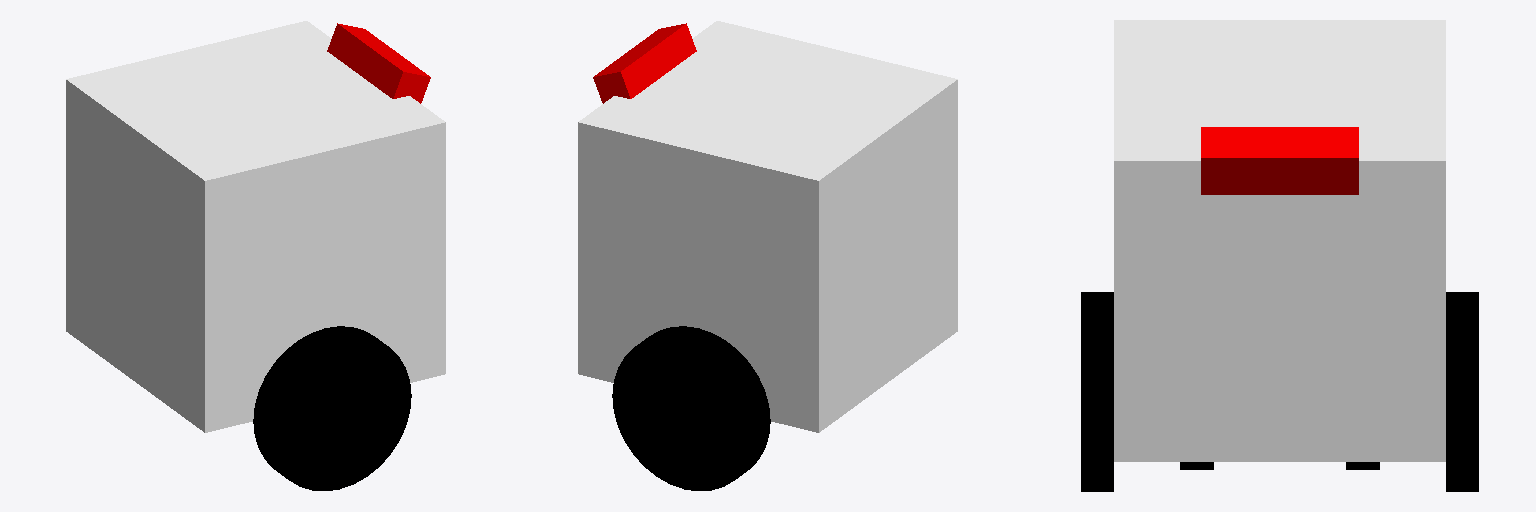
The robot description file, URDF, robot "wheel_only_test":
<?xml version="1.0" ?>
<!-- =================================================================================== -->
<!-- |    This document was autogenerated by xacro from wheel_only_test.urdf.xacro     | -->
<!-- |    EDITING THIS FILE BY HAND IS NOT RECOMMENDED                                 | -->
<!-- =================================================================================== -->
<robot name="wheel_only_test" xmlns:xacro="http://www.ros.org/wiki/xacro">
  <!-- Include full igvc library even though we're not using all of it -->
  <material name="black">
    <color rgba="0 0 0 1"/>
  </material>
  <material name="white">
    <color rgba="1 1 1 1"/>
  </material>
  <!-- Base link -->
  <link name="base_link">
    <visual>
      <geometry>
        <box size="0.2 0.2 0.2"/>
      </geometry>
      <material name="white"/>
    </visual>
    <collision>
      <geometry>
        <box size="0.1 0.2 0.2"/>
      </geometry>
    </collision>
    <inertial>
      <mass value="10"/>
      <inertia ixx="0.05" ixy="0" ixz="0" iyy="0.05" iyz="0" izz="0.05"/>
    </inertial>
    <!-- Gazebo description for base_link -->
    <gazebo reference="base_link"/>
  </link>
  <!-- Add the wheels -->
  <link name="right_wheel">
    <visual>
      <geometry>
        <!-- Change to mesh when we have them??? -->
        <cylinder length="0.02" radius="0.06"/>
      </geometry>
      <origin rpy="1.570795 0 0"/>
      <material name="black"/>
    </visual>
    <collision>
      <geometry>
        <cylinder length="0.02" radius="0.06"/>
      </geometry>
      <origin rpy="1.570795 0 0"/>
    </collision>
    <inertial>
      <mass value="5"/>
      <inertia ixx="0.00466666666667" ixy="0" ixz="0" iyy="0.00466666666667" iyz="0" izz="0.009"/>
    </inertial>
  </link>
  <gazebo reference="right_wheel">
    <mu1>1.0</mu1>
    <mu2>1.0</mu2>
    <kp>10000000.0</kp>
    <kd>100.0</kd>
  </gazebo>
  <joint name="right_wheel_joint" type="continuous">
    <parent link="base_link"/>
    <child link="right_wheel"/>
    <axis xyz="0 1 0"/>
    <origin xyz="0 -0.11 -0.1"/>
    <limit effort="100.0" velocity="0.0"/>
  </joint>
  <gazebo reference="right_wheel_joint"/>
  <transmission name="right_wheel_trans">
    <type>transmission_interface/SimpleTransmission</type>
    <joint name="right_wheel_joint">
      <hardwareInterface>EffortJointInterface</hardwareInterface>
    </joint>
    <actuator name="right_wheel_motor">
      <mechanicalReduction>1</mechanicalReduction>
    </actuator>
  </transmission>
  <link name="left_wheel">
    <visual>
      <geometry>
        <!-- Change to mesh when we have them??? -->
        <cylinder length="0.02" radius="0.06"/>
      </geometry>
      <origin rpy="1.570795 0 0"/>
      <material name="black"/>
    </visual>
    <collision>
      <geometry>
        <cylinder length="0.02" radius="0.06"/>
      </geometry>
      <origin rpy="1.570795 0 0"/>
    </collision>
    <inertial>
      <mass value="5"/>
      <inertia ixx="0.00466666666667" ixy="0" ixz="0" iyy="0.00466666666667" iyz="0" izz="0.009"/>
    </inertial>
  </link>
  <gazebo reference="left_wheel">
    <mu1>1.0</mu1>
    <mu2>1.0</mu2>
    <kp>10000000.0</kp>
    <kd>100.0</kd>
  </gazebo>
  <joint name="left_wheel_joint" type="continuous">
    <parent link="base_link"/>
    <child link="left_wheel"/>
    <axis xyz="0 1 0"/>
    <origin xyz="0 0.11 -0.1"/>
    <limit effort="100.0" velocity="0.0"/>
  </joint>
  <gazebo reference="left_wheel_joint"/>
  <transmission name="left_wheel_trans">
    <type>transmission_interface/SimpleTransmission</type>
    <joint name="left_wheel_joint">
      <hardwareInterface>EffortJointInterface</hardwareInterface>
    </joint>
    <actuator name="left_wheel_motor">
      <mechanicalReduction>1</mechanicalReduction>
    </actuator>
  </transmission>
  <!-- Add the casters -->
  <link name="right_caster_rotator">
    <visual>
      <geometry>
        <cylinder length="0.001" radius="0.02"/>
      </geometry>
      <material name="black"/>
    </visual>
    <collision>
      <geometry>
        <cylinder length="0.001" radius="0.02"/>
      </geometry>
    </collision>
    <inertial>
      <mass value="1"/>
      <inertia ixx="0.001" ixy="0" ixz="0" iyy="0.001" iyz="0" izz="0.001"/>
    </inertial>
  </link>
  <gazebo reference="right_caster_rotator"/>
  <joint name="right_caster_rotator_joint" type="continuous">
    <parent link="base_link"/>
    <child link="right_caster_rotator"/>
    <axis xyz="0 0 1"/>
    <origin xyz="0.0 -0.05 -0.1"/>
    <limit effort="100.0" velocity="0.0"/>
  </joint>
  <gazebo reference="right_caster_rotator_joint"/>
  <link name="right_caster_wheel">
    <visual>
      <geometry>
        <cylinder length="0.02" radius="0.02"/>
      </geometry>
      <origin rpy="1.570795 0 0"/>
      <material name="black"/>
    </visual>
    <collision>
      <geometry>
        <cylinder length="0.02" radius="0.02"/>
      </geometry>
      <origin rpy="1.570795 0 0"/>
    </collision>
    <inertial>
      <mass value="5"/>
      <inertia ixx="0.000666666666667" ixy="0.0" ixz="0.0" iyy="0.000666666666667" iyz="0.0" izz="0.001"/>
    </inertial>
  </link>
  <gazebo reference="right_caster_wheel">
    <mu1>0.0</mu1>
    <mu2>0.0</mu2>
    <kp>10000000.0</kp>
    <kd>100.0</kd>
  </gazebo>
  <joint name="right_caster_wheel_joint" type="continuous">
    <parent link="right_caster_rotator"/>
    <child link="right_caster_wheel"/>
    <axis xyz="0 1 0"/>
    <origin xyz="0 0 -0.03"/>
    <limit effort="100.0" velocity="0.0"/>
  </joint>
  <gazebo reference="right_caster_wheel_joint"/>
  <link name="left_caster_rotator">
    <visual>
      <geometry>
        <cylinder length="0.001" radius="0.02"/>
      </geometry>
      <material name="black"/>
    </visual>
    <collision>
      <geometry>
        <cylinder length="0.001" radius="0.02"/>
      </geometry>
    </collision>
    <inertial>
      <mass value="1"/>
      <inertia ixx="0.001" ixy="0" ixz="0" iyy="0.001" iyz="0" izz="0.001"/>
    </inertial>
  </link>
  <gazebo reference="left_caster_rotator"/>
  <joint name="left_caster_rotator_joint" type="continuous">
    <parent link="base_link"/>
    <child link="left_caster_rotator"/>
    <axis xyz="0 0 1"/>
    <origin xyz="0.0 0.05 -0.1"/>
    <limit effort="100.0" velocity="0.0"/>
  </joint>
  <gazebo reference="left_caster_rotator_joint"/>
  <link name="left_caster_wheel">
    <visual>
      <geometry>
        <cylinder length="0.02" radius="0.02"/>
      </geometry>
      <origin rpy="1.570795 0 0"/>
      <material name="black"/>
    </visual>
    <collision>
      <geometry>
        <cylinder length="0.02" radius="0.02"/>
      </geometry>
      <origin rpy="1.570795 0 0"/>
    </collision>
    <inertial>
      <mass value="5"/>
      <inertia ixx="0.000666666666667" ixy="0.0" ixz="0.0" iyy="0.000666666666667" iyz="0.0" izz="0.001"/>
    </inertial>
  </link>
  <gazebo reference="left_caster_wheel">
    <mu1>0.0</mu1>
    <mu2>0.0</mu2>
    <kp>10000000.0</kp>
    <kd>100.0</kd>
  </gazebo>
  <joint name="left_caster_wheel_joint" type="continuous">
    <parent link="left_caster_rotator"/>
    <child link="left_caster_wheel"/>
    <axis xyz="0 1 0"/>
    <origin xyz="0 0 -0.03"/>
    <limit effort="100.0" velocity="0.0"/>
  </joint>
  <gazebo reference="left_caster_wheel_joint"/>
  <!-- Add a camera -->
  <link name="solo_camera">
    <visual>
      <geometry>
        <box size="0.025 0.095 0.033"/>
      </geometry>
      <origin rpy="0 0 0"/>
      <material name="red">
        <color rgba="1 0 0 1"/>
      </material>
    </visual>
    <collision>
      <geometry>
        <box size="0.025 0.095 0.033"/>
      </geometry>
      <origin rpy="0 0.4 0"/>
    </collision>
    <inertial>
      <mass value="5"/>
      <inertia ixx="0.001" ixy="0" ixz="0" iyy="0.001" iyz="0" izz="0.001"/>
    </inertial>
  </link>
  <gazebo reference="solo_camera">
    <sensor name="solo_camera" type="camera">
      <update_rate>30.0</update_rate>
      <camera name="solo">
        <horizontal_fov>1.3962634</horizontal_fov>
        <image>
          <width>800</width>
          <height>800</height>
          <format>R8G8B8</format>
        </image>
        <clip>
          <near>0.02</near>
          <far>300</far>
        </clip>
      </camera>
      <!-- Set up Gazebo plugin for the camera -->
      <plugin filename="libgazebo_ros_camera.so" name="camera_controller">
        <alwaysOn>true</alwaysOn>
        <updateRate>0.0</updateRate>
        <cameraName>solo_camera</cameraName>
        <imageTopicName>solo_camera/image_raw</imageTopicName>
        <cameraInfoTopicName>solo_camera/camera_info</cameraInfoTopicName>
        <frameName>solo_camera_link</frameName>
      </plugin>
    </sensor>
  </gazebo>
  <joint name="solo_camera_joint" type="fixed">
    <parent link="base_link"/>
    <child link="solo_camera"/>
    <origin rpy="0 0.4 0" xyz="0.1 0.0 0.1"/>
  </joint>
  <gazebo reference="igvc"/>
</robot>

--- What the picture shows (computed from the rendered views, not written in the file) ---
The picture shows the robot from 3 angles, left to right: view 1: azimuth 30°, elevation 25°; view 2: azimuth 150°, elevation 25°; view 3: azimuth 270°, elevation 25°; orthographic projection.
Robot: wheel_only_test — 8 links, 7 joints (6 continuous, 1 fixed); root link base_link; default pose: every joint at zero.
Visible links, largest first — view 1: base_link, right_wheel, solo_camera; view 2: base_link, left_wheel, solo_camera; view 3: base_link, solo_camera, right_wheel, left_wheel.
Boxes of the visible links, <box> form: base_link: <box>66,21,445,432</box>; right_wheel: <box>253,326,411,490</box>; solo_camera: <box>327,23,430,103</box>; base_link: <box>578,21,957,432</box>; left_wheel: <box>612,326,770,490</box>; solo_camera: <box>593,23,696,103</box>; base_link: <box>1114,20,1445,461</box>; solo_camera: <box>1201,127,1358,194</box>; right_wheel: <box>1081,292,1113,491</box>; left_wheel: <box>1446,292,1478,491</box>.
Size in the robot's own frame: 0.2179 by 0.24 by 0.2801 metres.
Geometry: primitives only (box / cylinder / sphere), no mesh files.